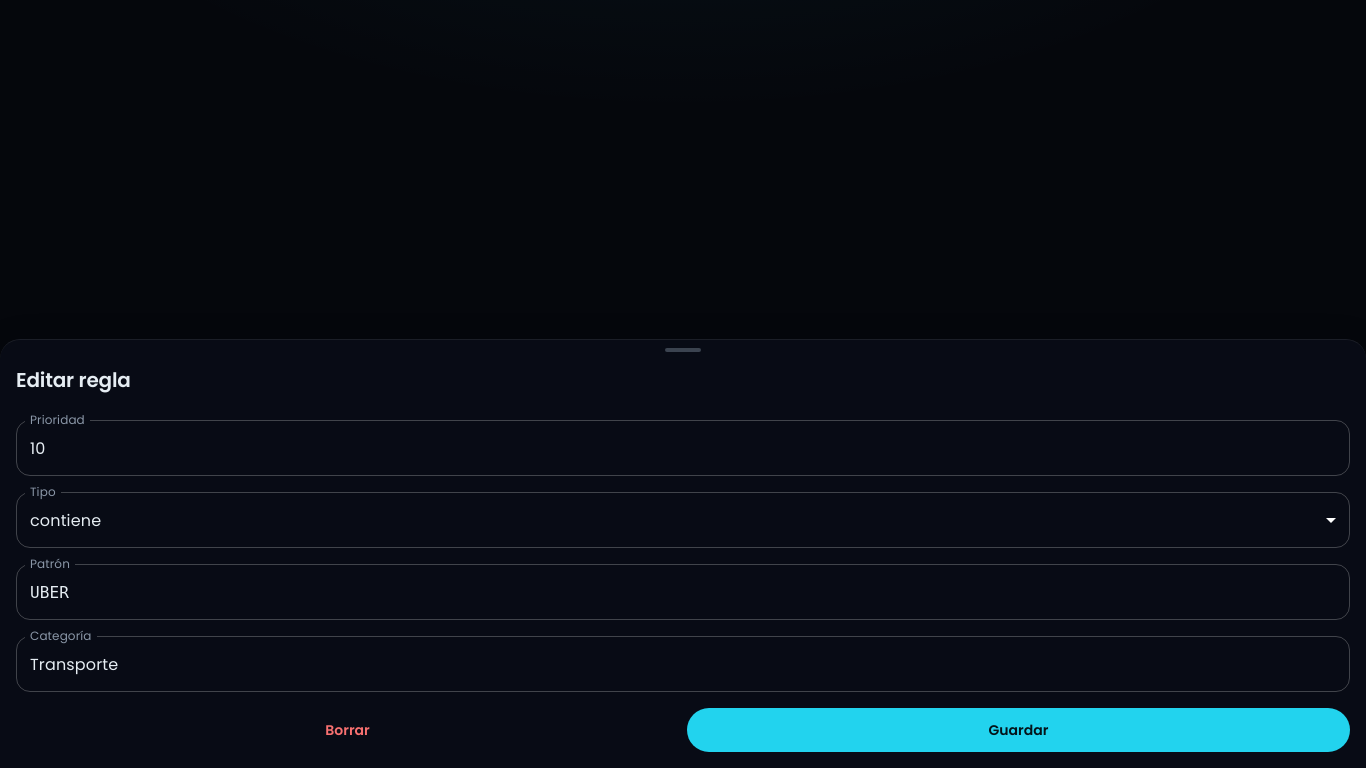
RuleSheet para editar › sin prioridad no deja guardar
Clear the field labelled "Prioridad": (683, 448) [16,420,1350,476]
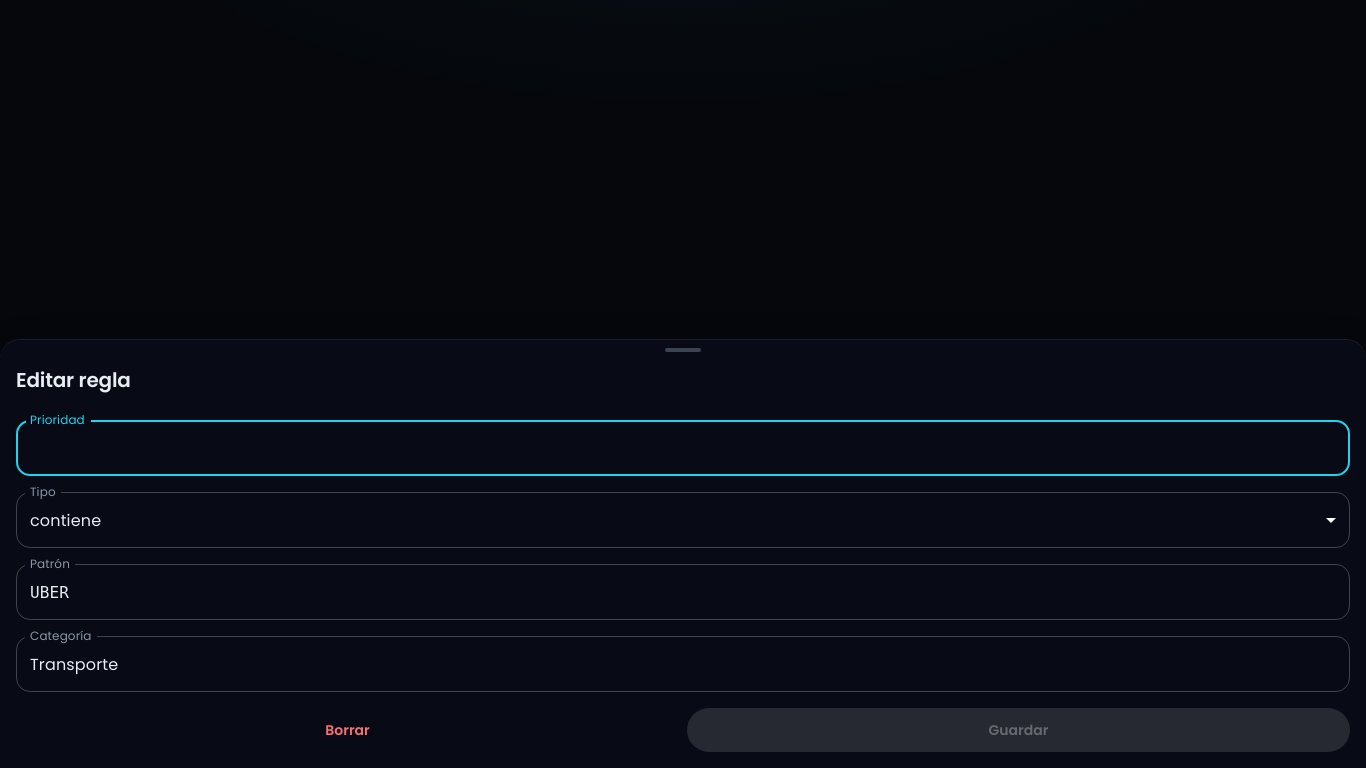
Now the button "Guardar" is disabled, box [687,708,1350,752]
